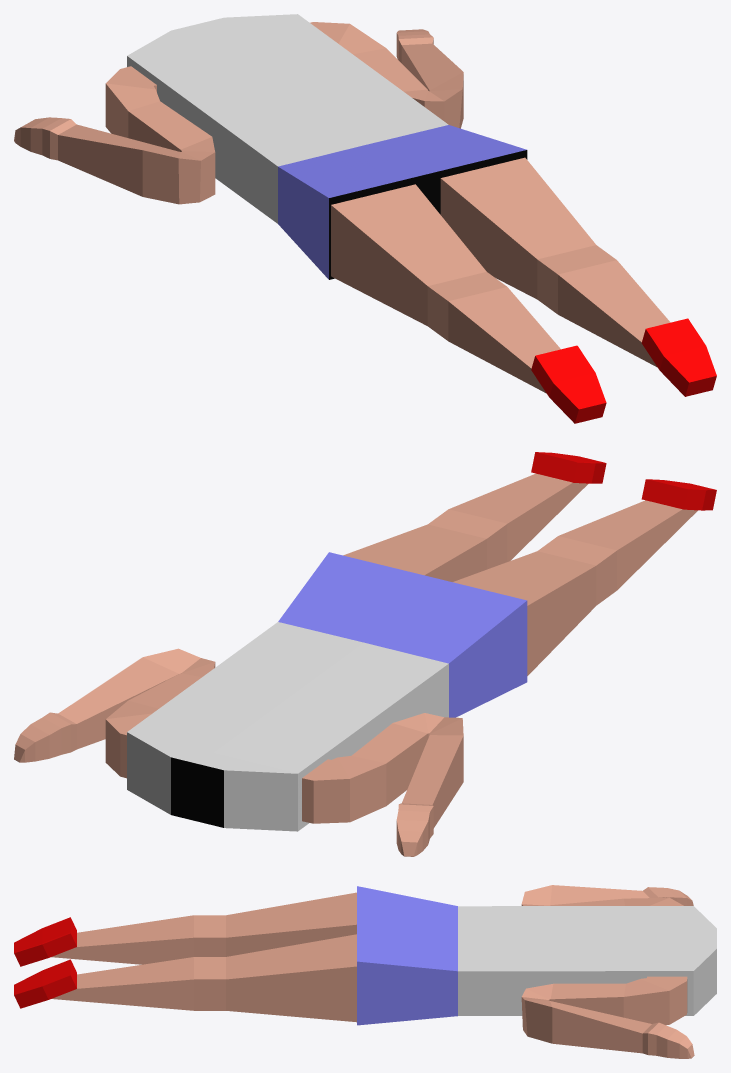
File: Corpse.fbx
The picture shows the model from 3 angles, top to bottom: view 1: azimuth 30°, elevation 25°; view 2: azimuth 150°, elevation 25°; view 3: azimuth 270°, elevation 25°; orthographic projection. The views are drawn at different scales.
Visible parts, largest first — view 1: Cube; view 2: Cube; view 3: Cube.
Part boxes in pixels (left/top/right/bottom): Cube: left=14, top=14, right=716, bottom=423; Cube: left=14, top=452, right=716, bottom=856; Cube: left=14, top=885, right=716, bottom=1058.
Size of the model in its own units: 149 by 29.01 by 289.
